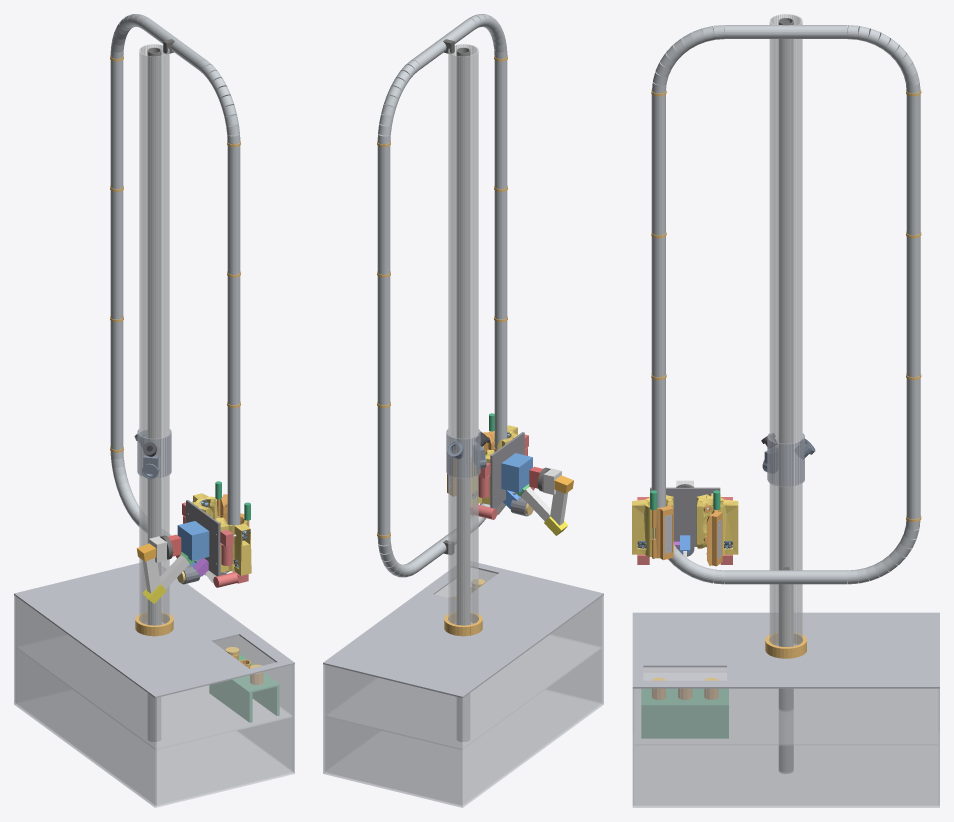
The model's file is transplant-seedling-step1-pick-v8.glb.
3 renders of one model, left to right at view 1: azimuth 30°, elevation 25°; view 2: azimuth 150°, elevation 25°; view 3: azimuth 270°, elevation 25°, orthographic. The views are drawn at different scales.
Size of the model in its own units: 0.4 by 1.9 by 0.701.
